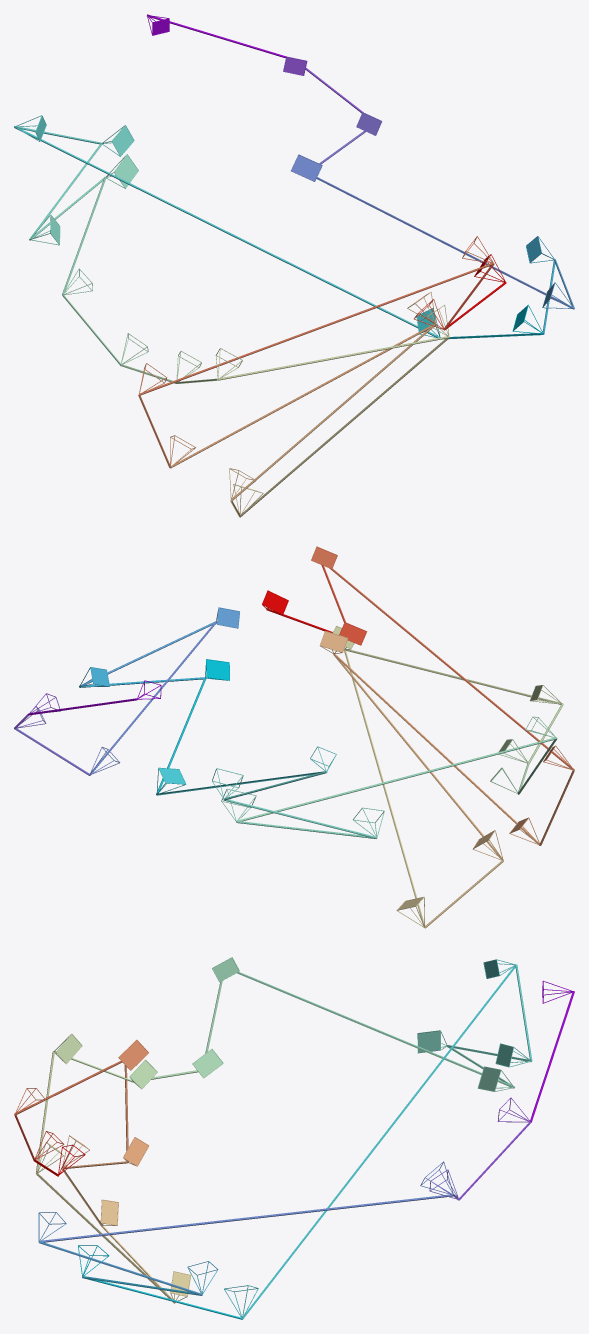
File: baseline.glb
The picture shows the model from 3 angles, top to bottom: view 1: azimuth 30°, elevation 25°; view 2: azimuth 150°, elevation 25°; view 3: azimuth 270°, elevation 25°; orthographic projection. The views are drawn at different scales.
Parts seen in each view (by area): view 1: trajectory, frustums; view 2: trajectory, frustums; view 3: trajectory, frustums.
Boxes of the visible parts, x1=… form: trajectory: x1=14, y1=14, x2=574, y2=517; frustums: x1=15, y1=15, x2=573, y2=514; trajectory: x1=14, y1=565, x2=574, y2=928; frustums: x1=17, y1=546, x2=573, y2=927; trajectory: x1=14, y1=964, x2=574, y2=1319; frustums: x1=15, y1=957, x2=572, y2=1317.
Size of the model in its own units: 1.54 by 1.05 by 1.46.
